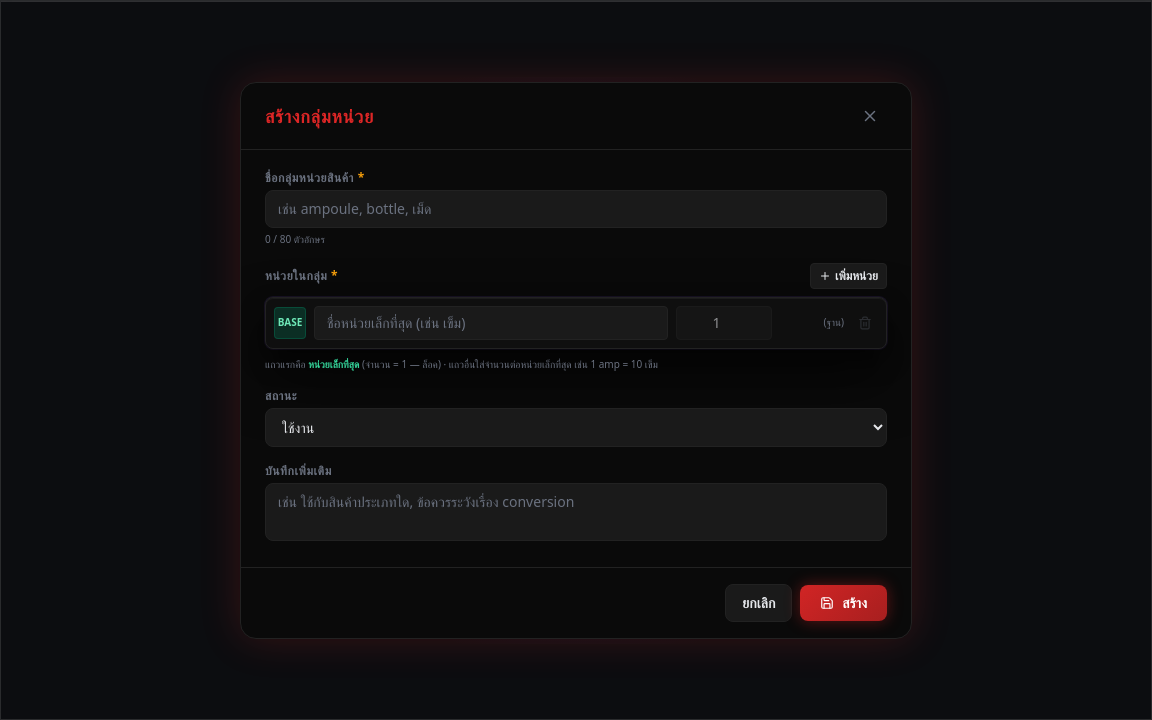
Test case: ProductUnitFormModal — PUM1..PUM10 › PUM8: save error surfaces message
Type "X" into the field with placeholder "เช่น ampoule, bottle, เม็ด" at (576, 208), box [265,190,887,228]
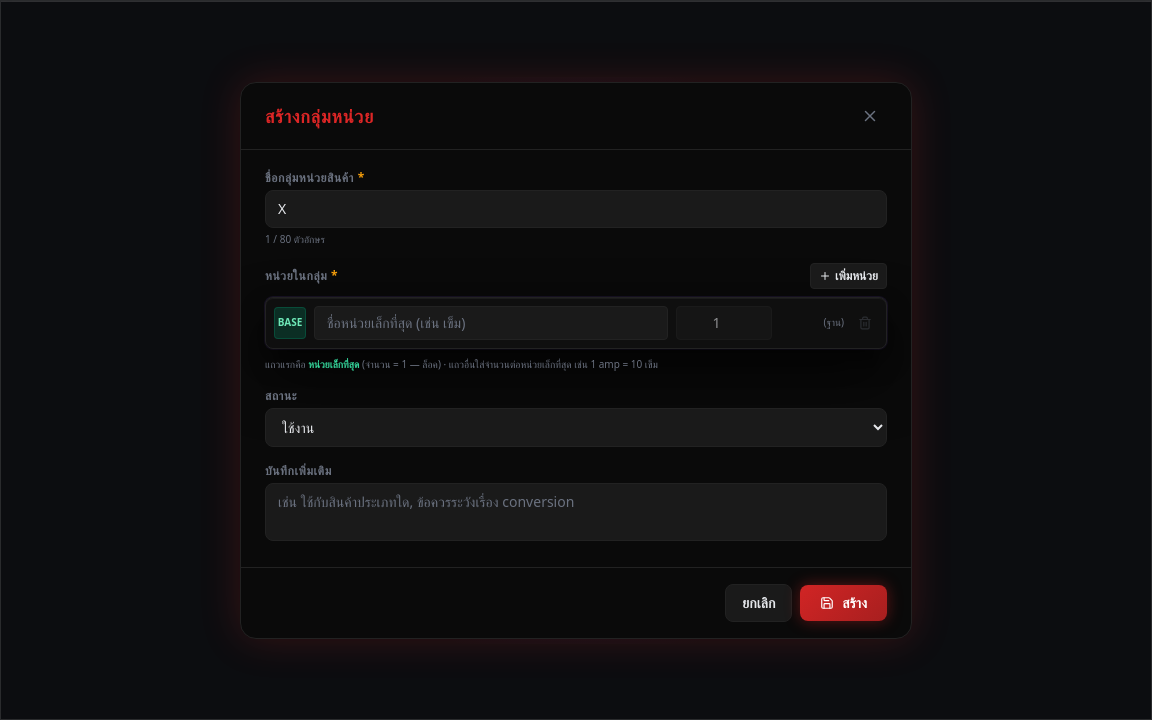
Type "เข็ม" into the field with placeholder "ชื่อหน่วยเล็กที่สุด (เช่น เข็ม)" at (491, 322), box [314,306,668,340]
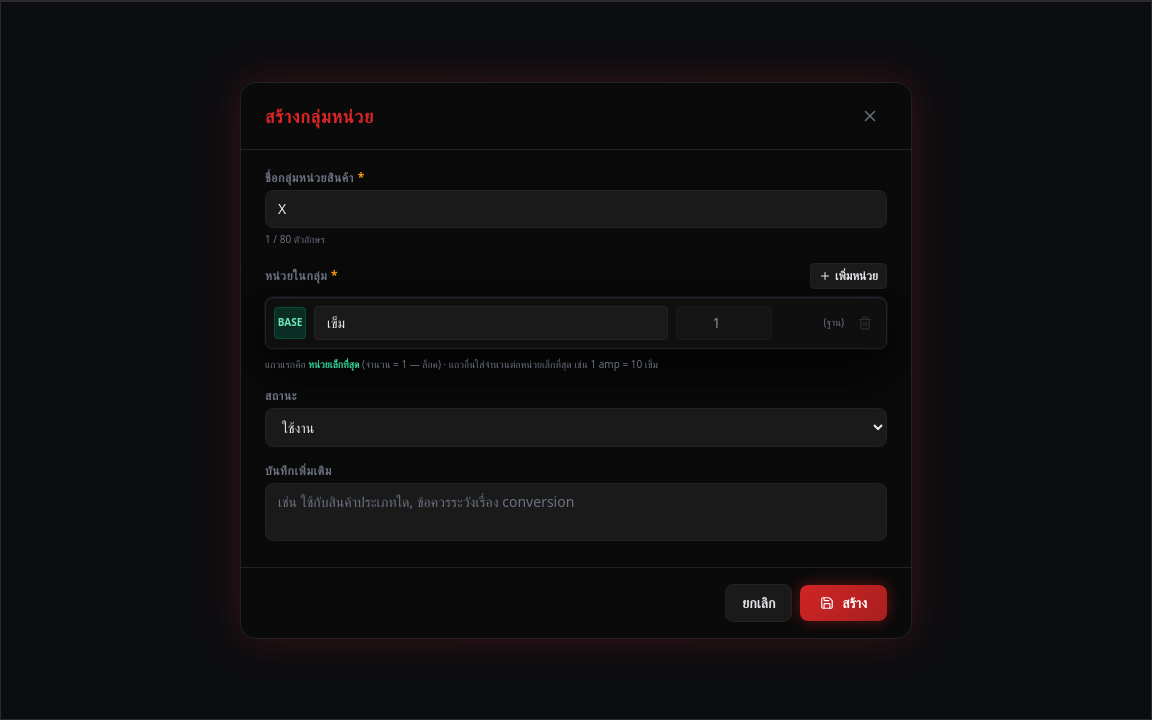
Click the button "สร้าง" at (844, 602), box [800,584,887,620]
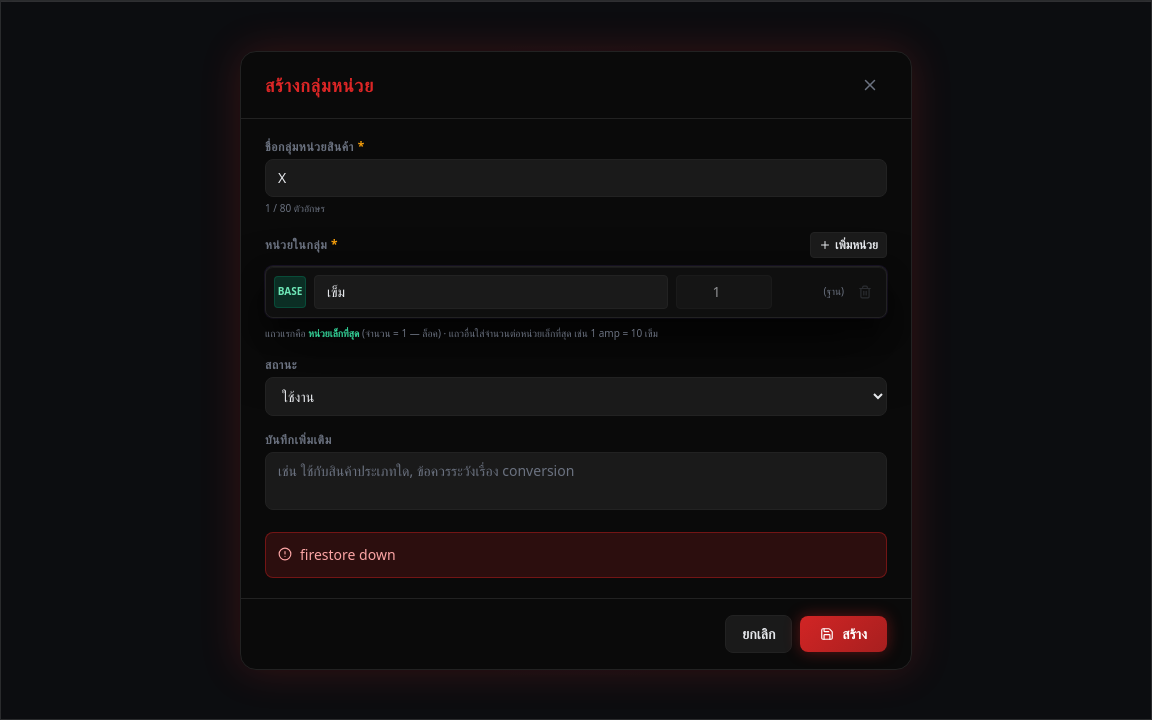
Result: the text "firestore down" is shown at [300,544,396,564]
